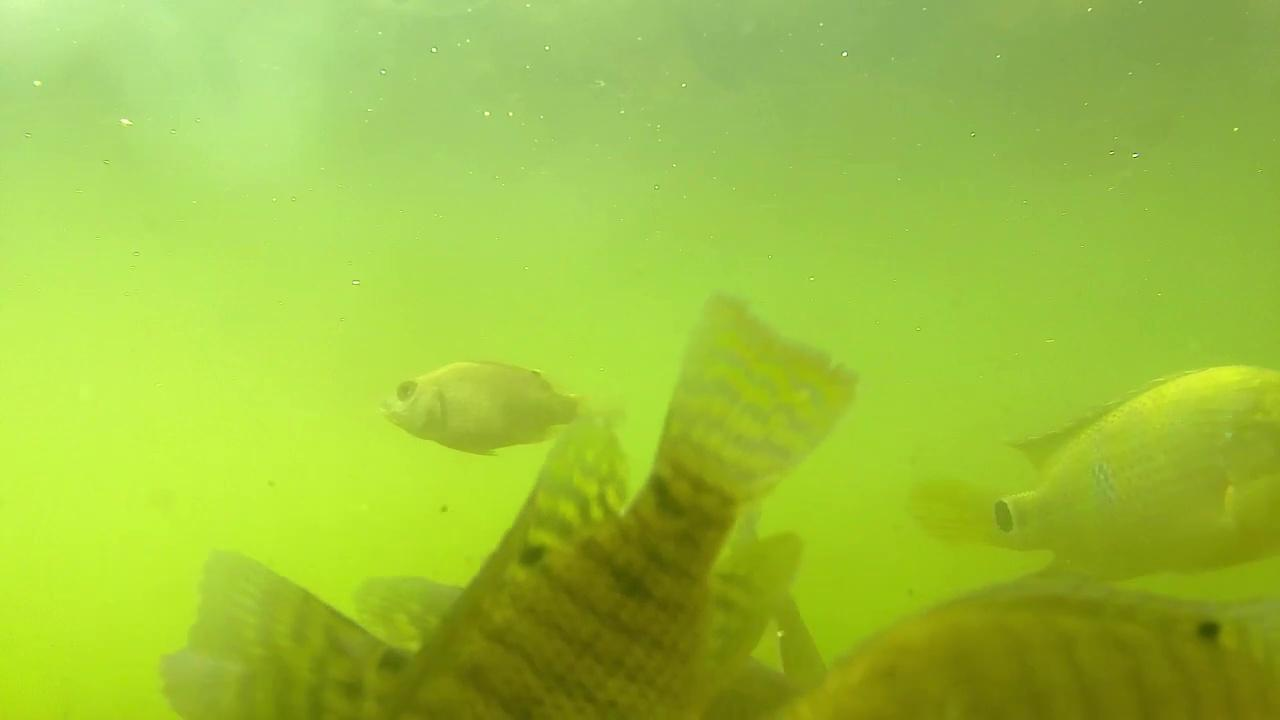Tilapia: (929, 352, 1280, 584), (787, 584, 1280, 720), (376, 356, 625, 454)
